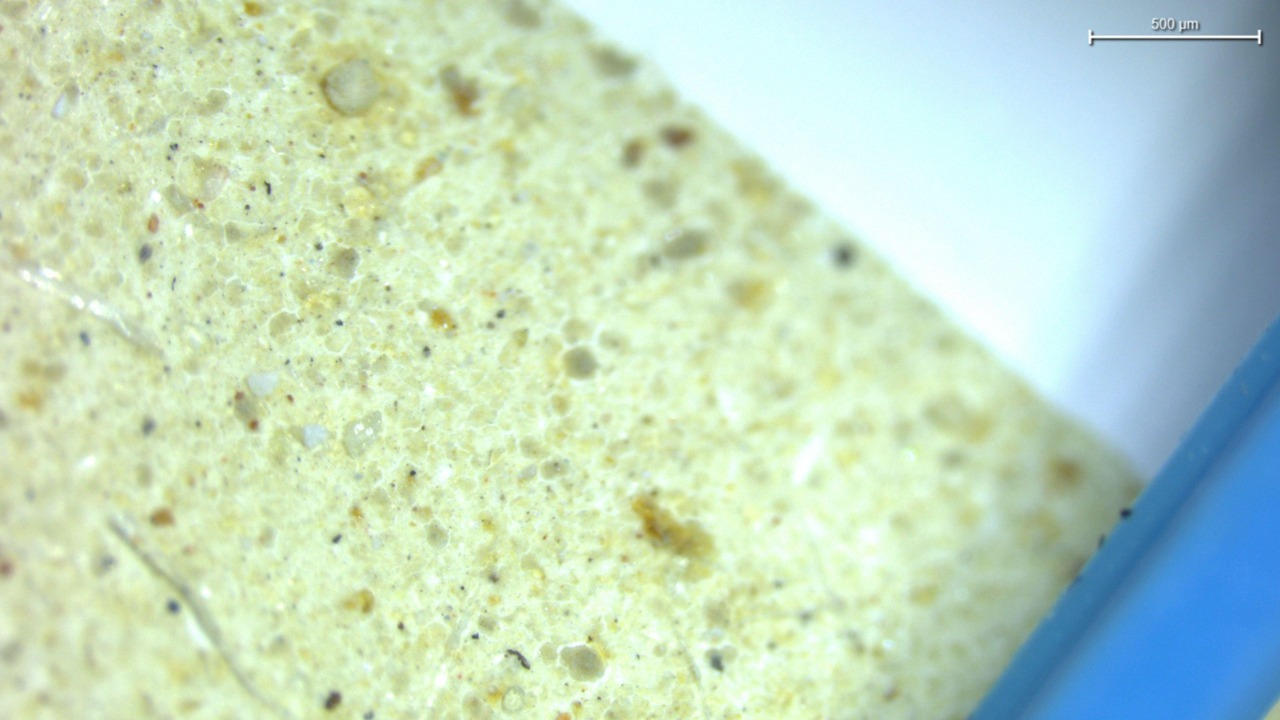microplastic_fragment: (343, 411, 382, 457)
